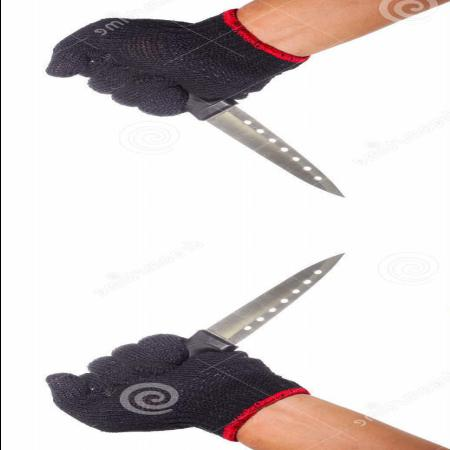long weapon: (78, 247, 347, 387), (87, 60, 346, 200)
